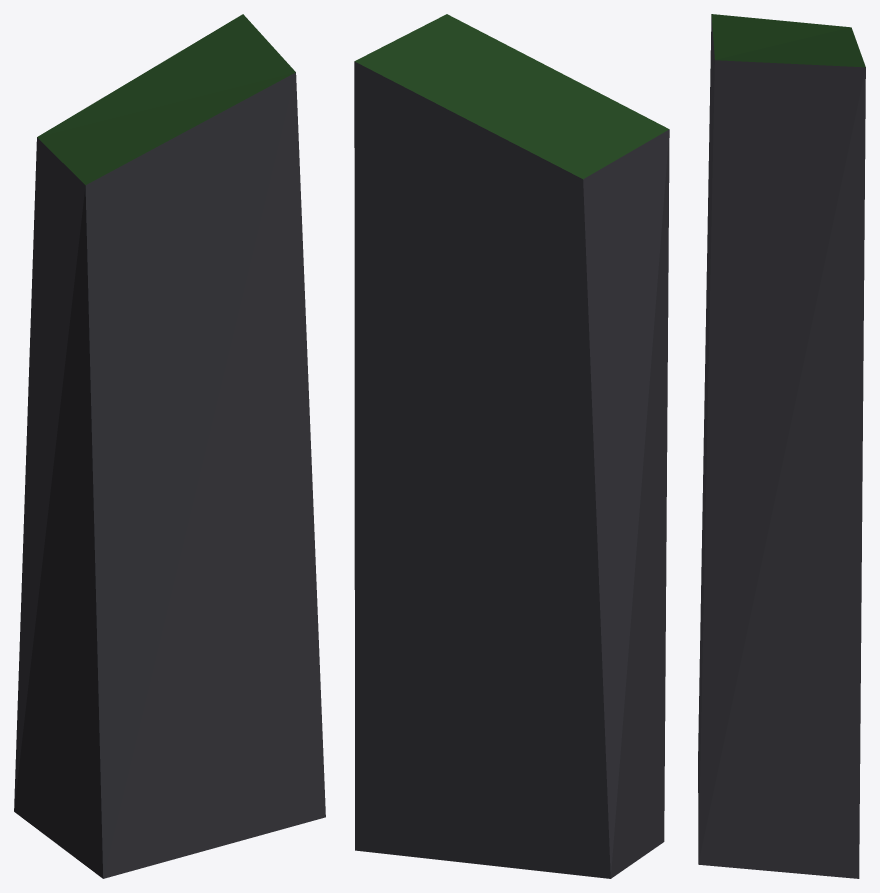
Rendered from stone_2.gltf.
3 views of the same model, side by side, from view 1: azimuth 30°, elevation 25°; view 2: azimuth 150°, elevation 25°; view 3: azimuth 270°, elevation 25° (orthographic). The views are drawn at different scales.
Bounding box in the file's own units: 1.41 × 4.23 × 0.795.
